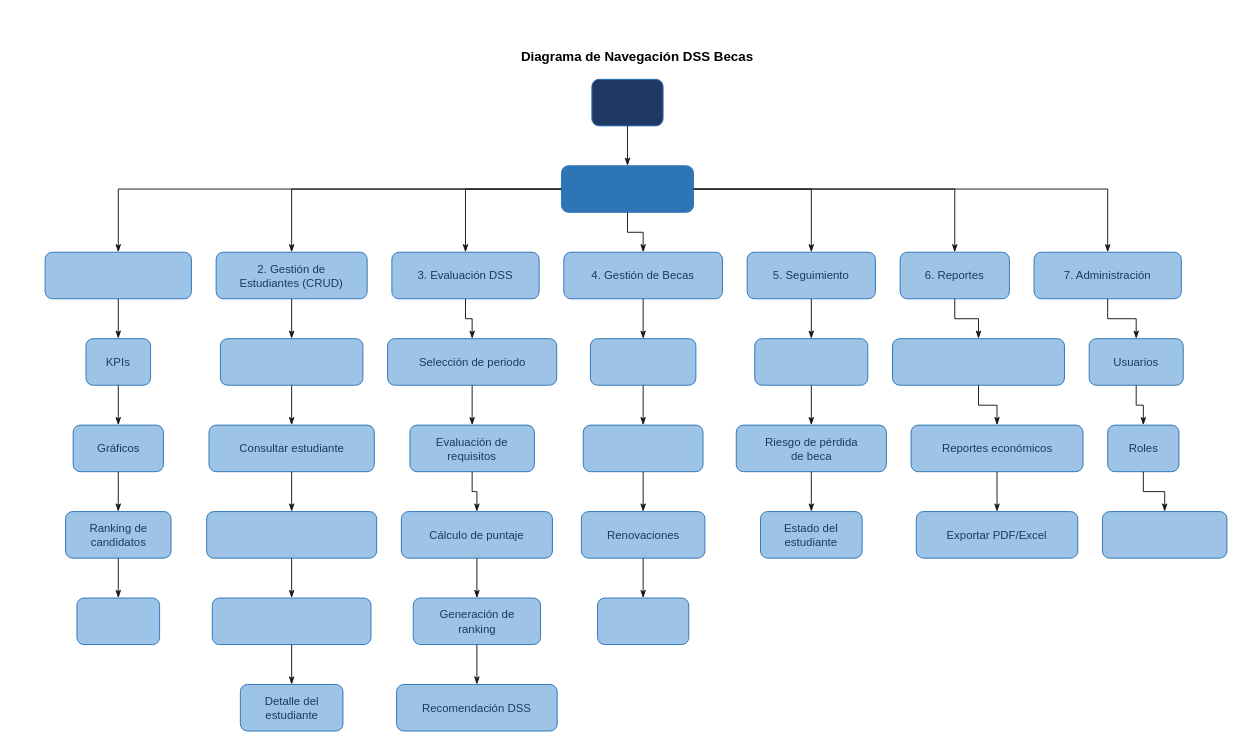
The diagram is 1244 pixels wide and 748 high, and some of its shapes have lost their labels. Each missing label, with the centre of its shape:
"1. Dashboard DSS" belongs at point (117, 275).
"Actualizar estudiante" belongs at point (291, 534).
"Alertas" belongs at point (118, 621).
"Asignaciones" belongs at point (642, 448).
"Configuración" belongs at point (1164, 534).
"Crear estudiante" belongs at point (291, 361).
"Eliminar estudiante" belongs at point (291, 621).
"Historial" belongs at point (643, 621).
"Menú Principal" belongs at point (627, 188).
"Rendimiento académico" belongs at point (811, 361).
"Reportes académicos" belongs at point (978, 361).
"Solicitudes" belongs at point (642, 361).
